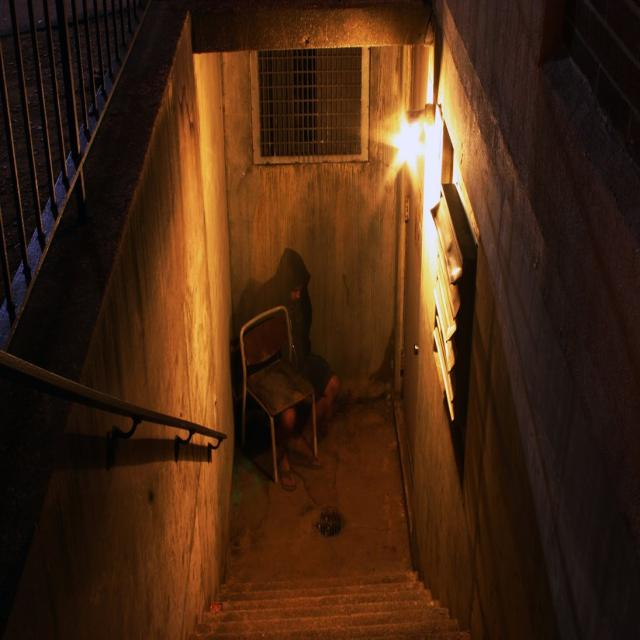People: (272, 237, 345, 469)
chair: (230, 314, 324, 504)
